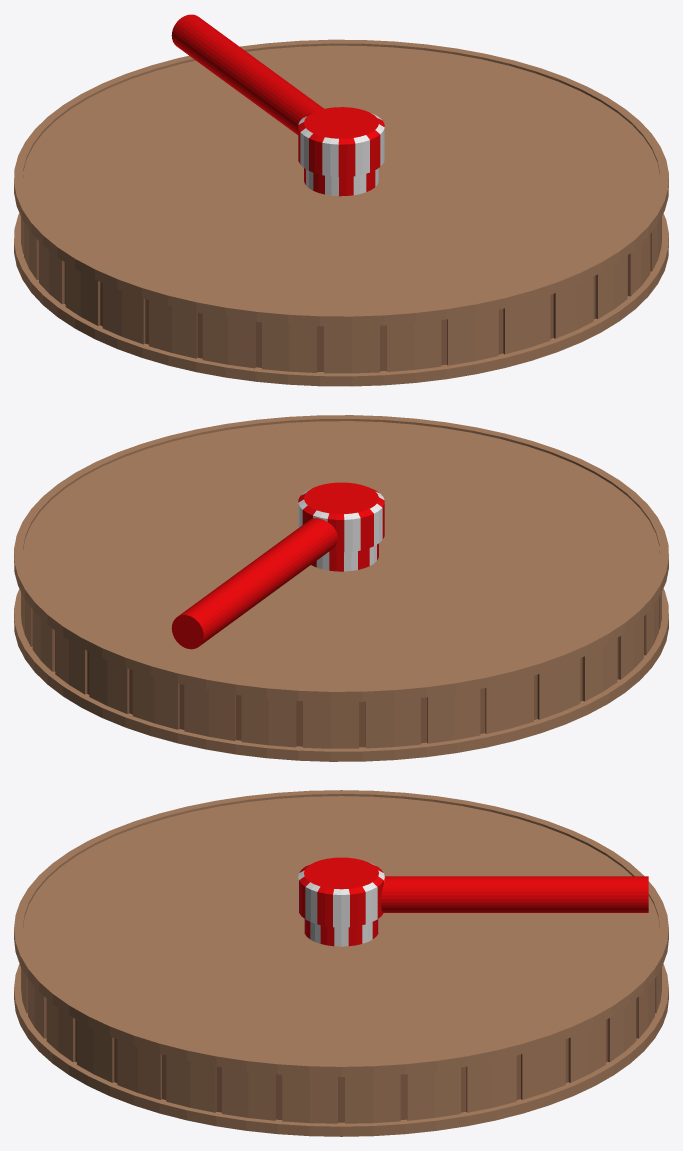
The model's file is spinner.fbx.
The picture shows the model from 3 angles, top to bottom: view 1: azimuth 30°, elevation 25°; view 2: azimuth 150°, elevation 25°; view 3: azimuth 270°, elevation 25°; orthographic projection.
Visible parts, largest first — view 1: Base, Spindle, Arm; view 2: Base, Arm, Spindle; view 3: Base, Arm, Spindle.
Boxes of the visible parts, box(x1,y1,x2,y2) form: Base: box(14, 39, 668, 386); Spindle: box(298, 107, 384, 196); Arm: box(171, 14, 323, 134); Base: box(14, 415, 668, 761); Arm: box(171, 518, 337, 649); Spindle: box(298, 482, 384, 571); Base: box(14, 790, 668, 1136); Arm: box(380, 876, 648, 912); Spindle: box(298, 857, 384, 946).
Size of the model in its own units: 391 by 82.43 by 391.
